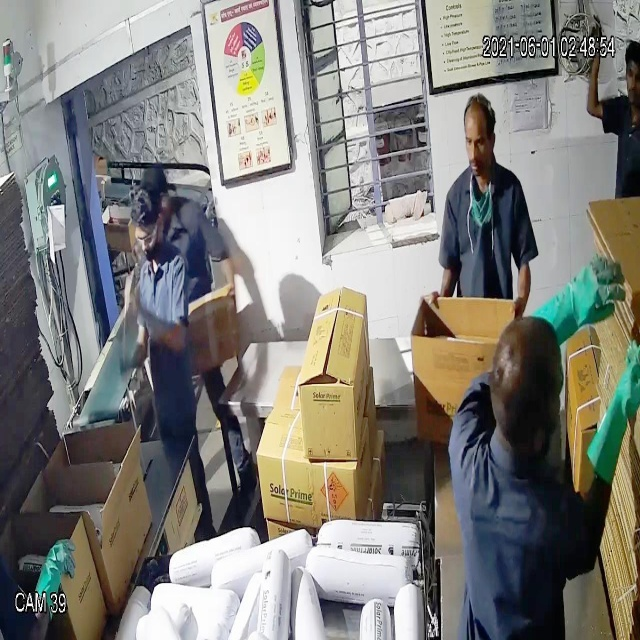Gafas: (130, 223, 167, 256)
Sin_gafas: (461, 127, 497, 158)
